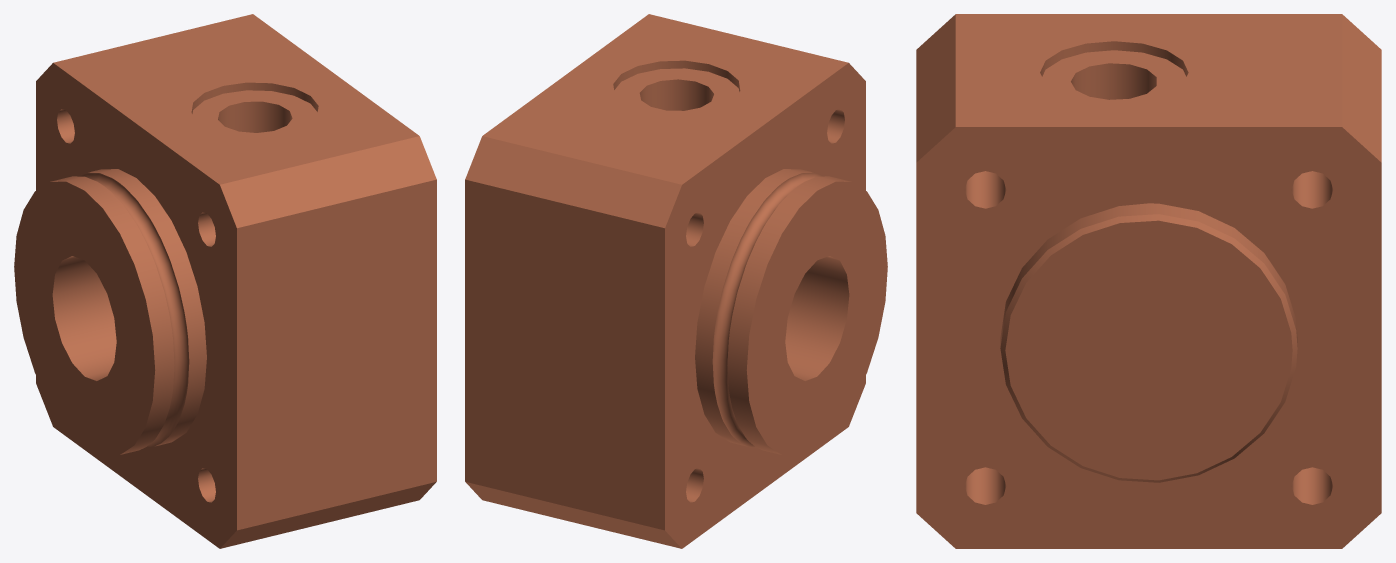
The model's file is Rear_Plate.glb.
3 renders of one model, left to right at view 1: azimuth 30°, elevation 25°; view 2: azimuth 150°, elevation 25°; view 3: azimuth 270°, elevation 25°, orthographic. The views are drawn at different scales.
Parts seen in each view (by area): view 1: Rear Plate; view 2: Rear Plate; view 3: Rear Plate.
Part boxes in pixels (x1,y1,x2,y2): Rear Plate: [14, 14, 436, 548]; Rear Plate: [465, 14, 887, 548]; Rear Plate: [916, 14, 1381, 548].
Bounding box in the file's own units: 0.037 × 0.047 × 0.047.
